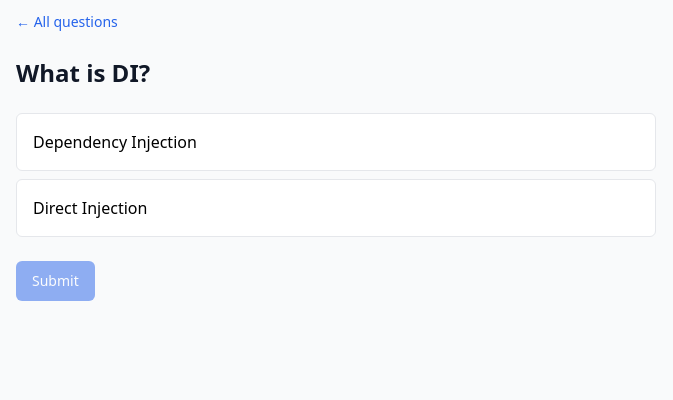
Test: QuestionPage › navigates to the next question on "Next question"
Click the button "Dependency Injection" at (115, 142), box [16,113,656,171]
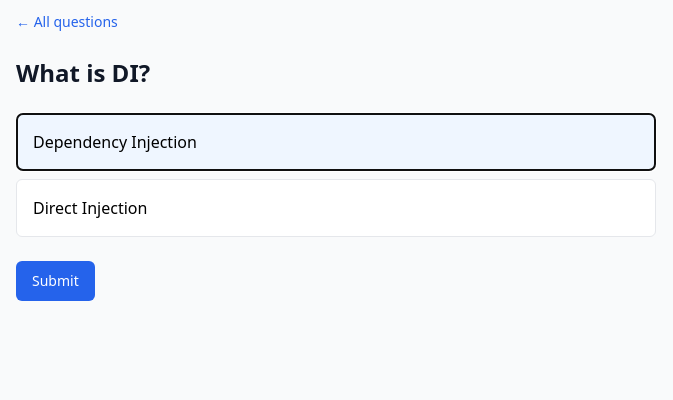
Click the button "Submit" at (55, 281), box [16,261,95,301]
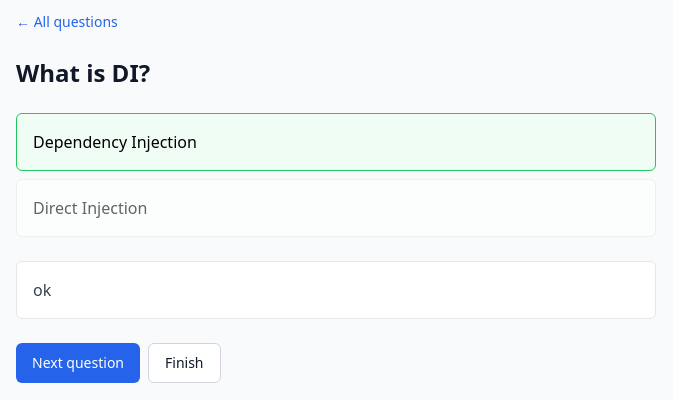
Click the button "Next question" at (78, 363), box [16,343,140,383]
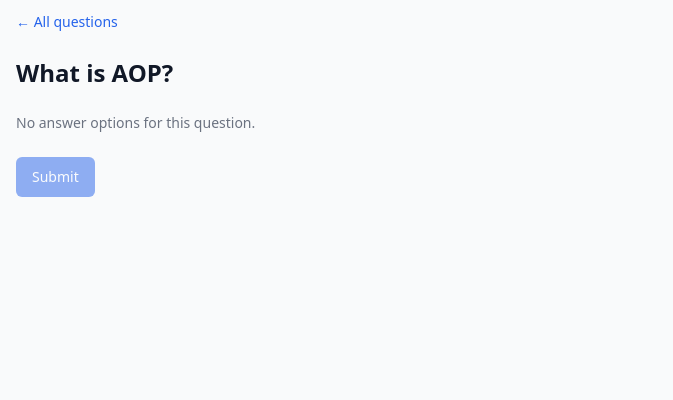
Check: the heading "What is AOP?" is shown, box [16,56,173,89]
